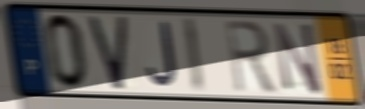0: (42, 12, 91, 91)
I: (180, 15, 207, 95)
J: (145, 20, 180, 90)
N: (271, 20, 324, 98)
R: (223, 17, 279, 95)
V: (85, 14, 130, 93)
